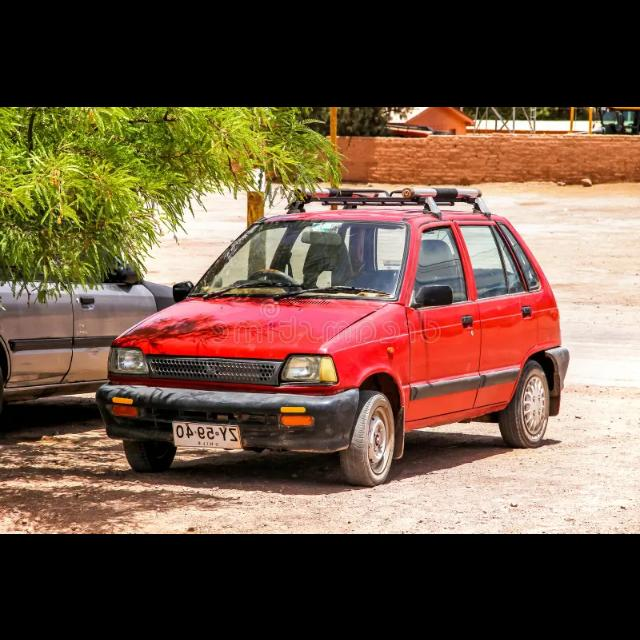vehicles: (94, 207, 570, 486)
